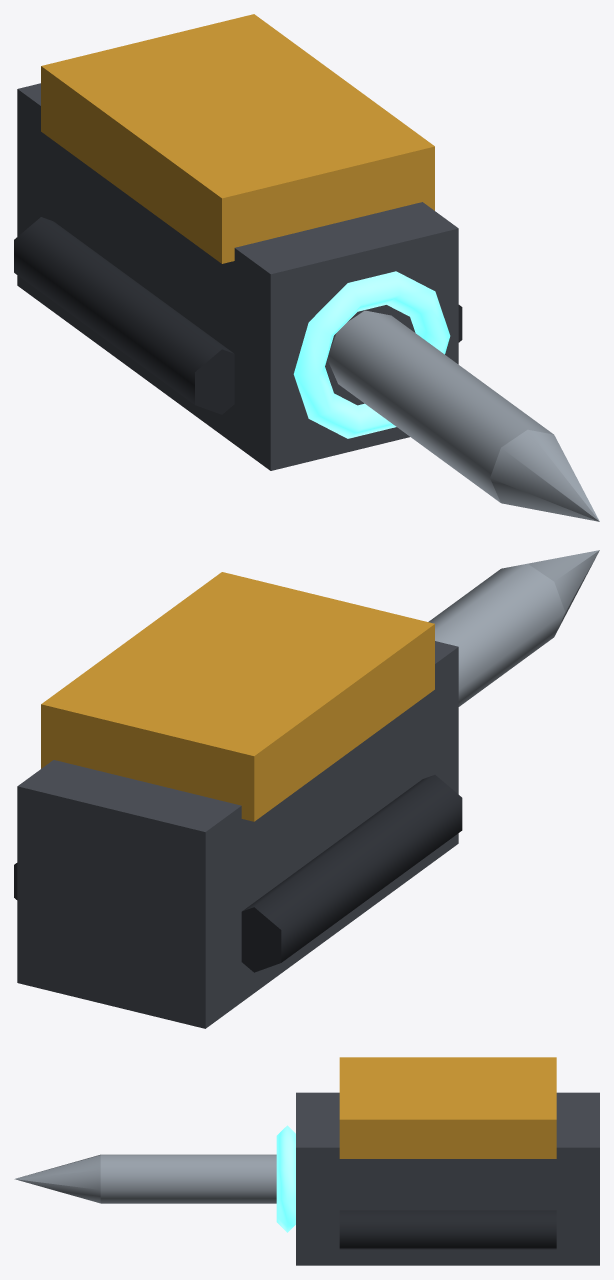
Rendered from wpn_pile.glb.
3 views of the same model, one above another, from view 1: azimuth 30°, elevation 25°; view 2: azimuth 150°, elevation 25°; view 3: azimuth 270°, elevation 25° (orthographic). The views are drawn at different scales.
Visible parts, largest first — view 1: weapon, pile; view 2: weapon, pile; view 3: weapon, pile.
Boxes of the visible parts, x1=… form: weapon: x1=14, y1=14, x2=462, y2=470; pile: x1=327, y1=310, x2=599, y2=521; weapon: x1=14, y1=572, x2=462, y2=1028; pile: x1=428, y1=550, x2=599, y2=706; weapon: x1=276, y1=1057, x2=599, y2=1265; pile: x1=14, y1=1154, x2=276, y2=1203.
Size of the model in its own units: 0.4266 by 0.38 by 1.35.
